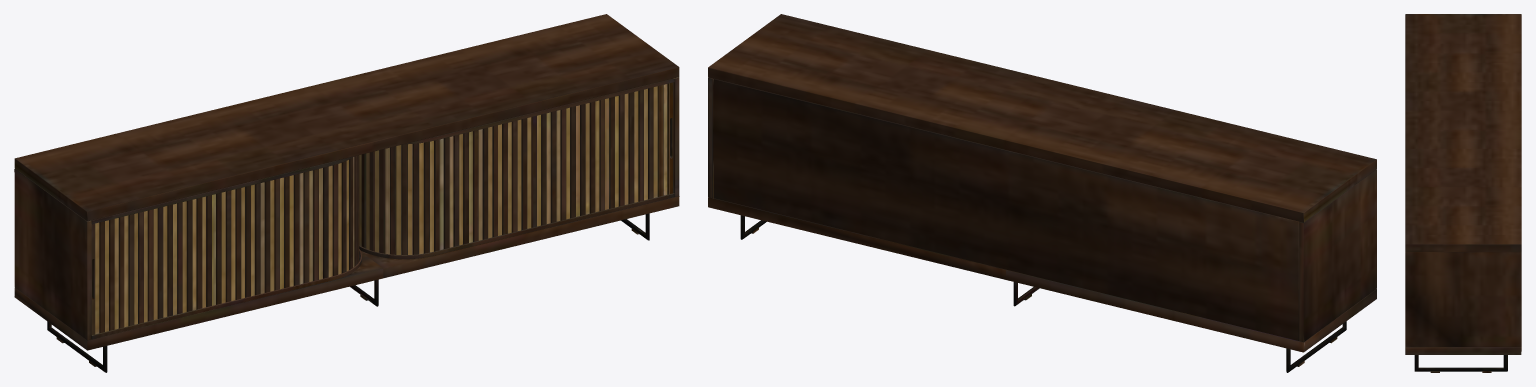
Rendered from cabinet.glb.
3 views of the same model, side by side, from view 1: azimuth 30°, elevation 25°; view 2: azimuth 150°, elevation 25°; view 3: azimuth 270°, elevation 25° (orthographic). The views are drawn at different scales.
Visible parts, largest first — view 1: modern_wooden_cabinet_body, modern_wooden_cabinet_door_l; view 2: modern_wooden_cabinet_body; view 3: modern_wooden_cabinet_body.
Part boxes in pixels (<box>): modern_wooden_cabinet_body: <box>14,14,679,372</box>; modern_wooden_cabinet_door_l: <box>91,82,673,334</box>; modern_wooden_cabinet_body: <box>708,14,1376,372</box>; modern_wooden_cabinet_body: <box>1405,14,1521,372</box>.
Size of the model in its own units: 2.44 by 0.6802 by 0.5199.
1 material, 1 textured.
